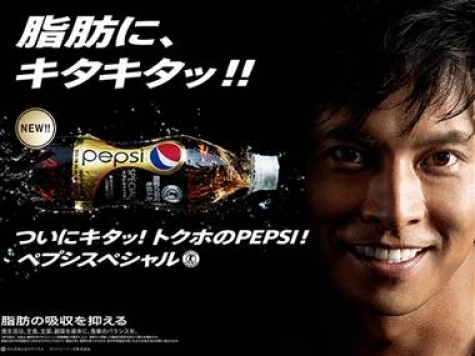pepsi: (148, 140, 180, 169), (148, 140, 180, 168), (148, 144, 180, 168)
